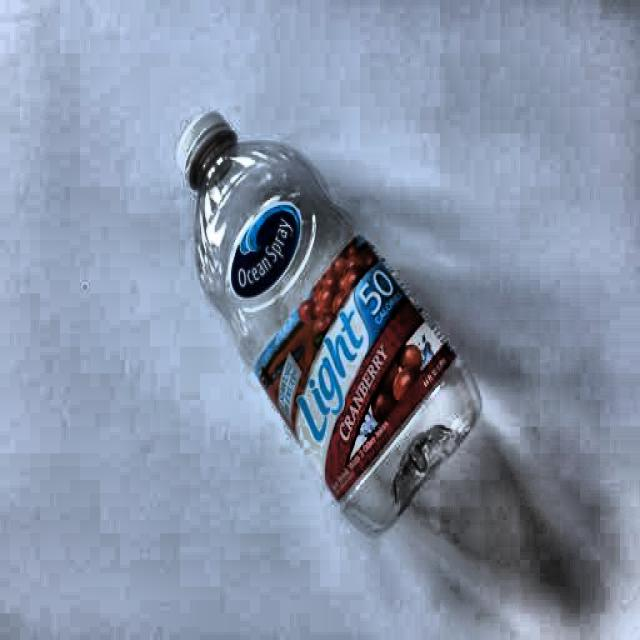plastic: (179, 110, 481, 556)
